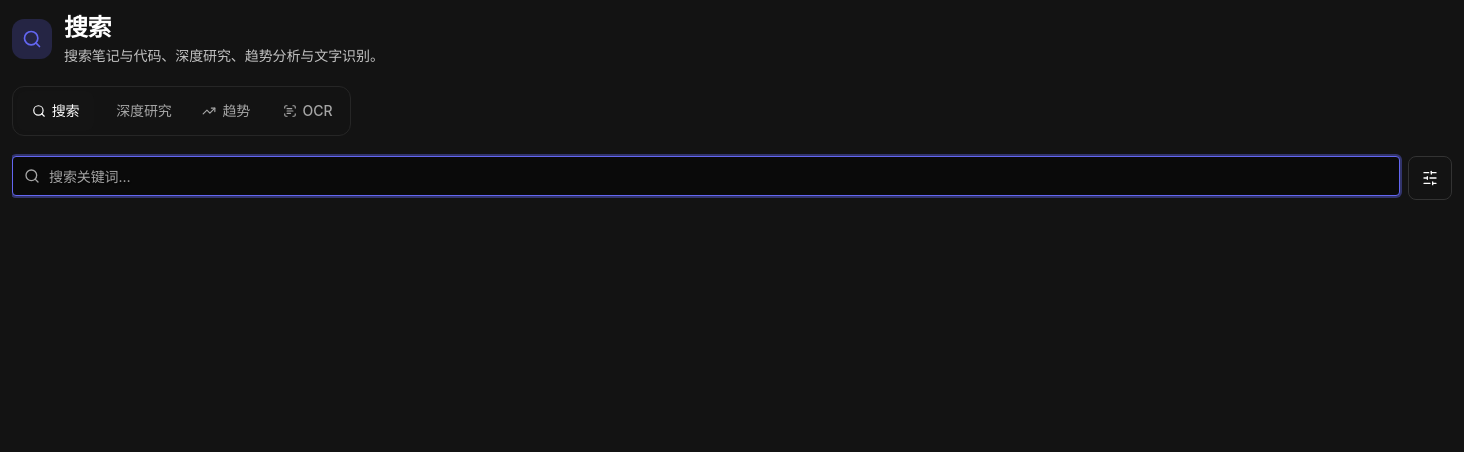
Test case: Search page — usage scenarios › searches vault + code + web and shows combined results
Type "router" into the field labelled "搜索关键词" at (706, 176), box [12,156,1400,196]
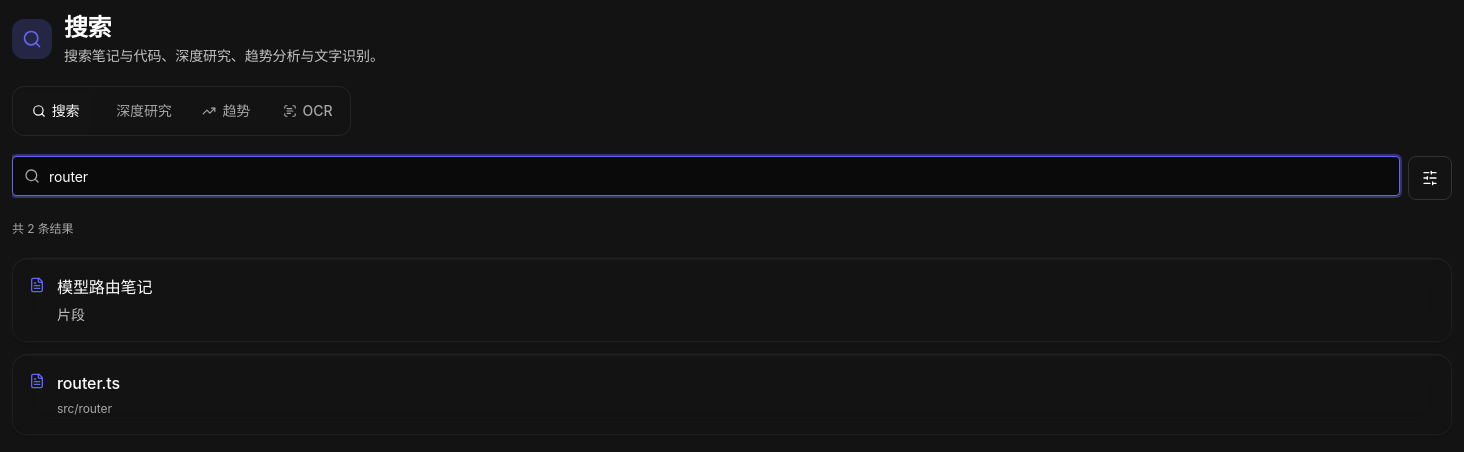
Result: the text "模型路由笔记" is shown at [57,277,152,297]
Result: the text "router.ts" is shown at [57,373,120,393]
